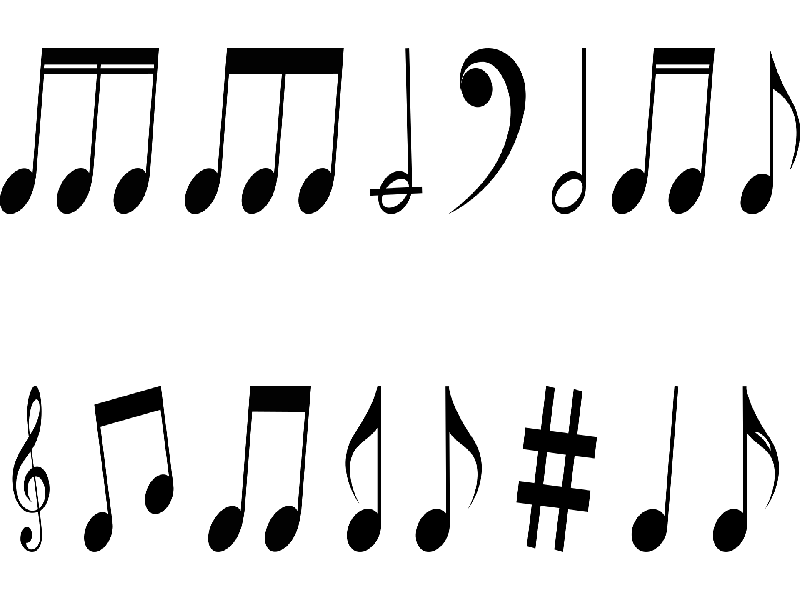B: (369, 43, 427, 220), (551, 44, 594, 216)
C: (410, 380, 485, 553), (713, 382, 784, 563), (736, 51, 800, 217), (183, 42, 241, 221), (207, 382, 264, 561), (69, 394, 130, 559), (241, 41, 294, 216), (296, 44, 350, 215), (265, 373, 312, 555), (127, 382, 189, 515)
CF: (455, 44, 530, 220)
CS: (13, 385, 55, 552)
N: (629, 384, 687, 552)
SC: (611, 31, 667, 223), (1, 42, 58, 222), (55, 43, 110, 214), (669, 32, 715, 220), (118, 41, 162, 214)
SOS: (517, 384, 602, 551)
